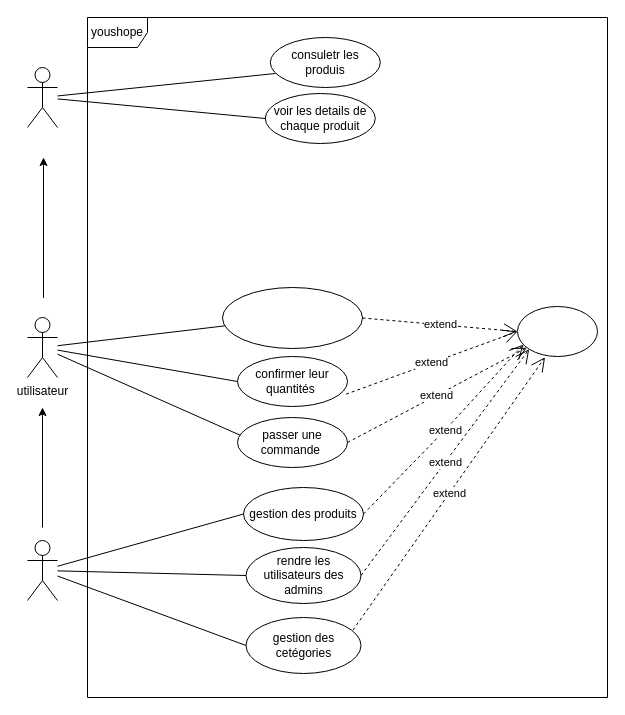
Some shapes in this 625 by 715 pixel diagram are drawn without their labels. The shapes that lost their labels are listed below. From the top down, each one's box as (x1, y1, x2, y2) in pixels, then its label:
(26, 66, 58, 128): visiteur
(222, 286, 362, 348): Ajouter et retirer des produit dans le panier
(516, 306, 598, 356): LOGIN
(26, 540, 58, 600): Admin
